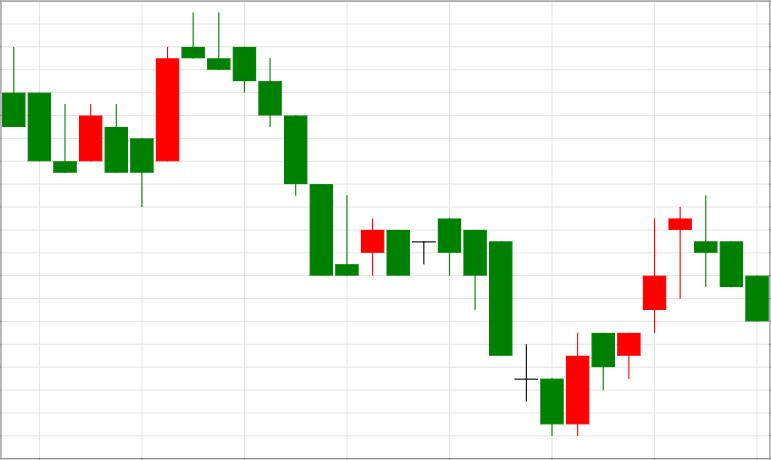bullish_engulfing_rise: (413, 219, 589, 437)
shooting_star_fall: (567, 218, 666, 438)
